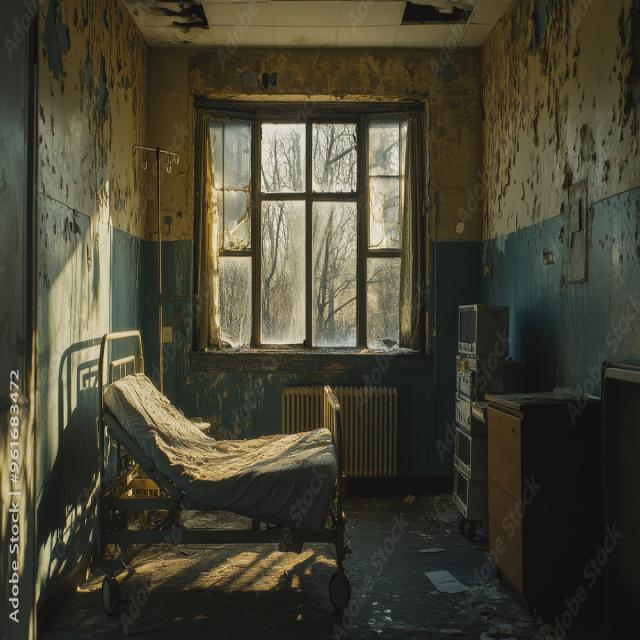bed: (95, 328, 352, 611)
